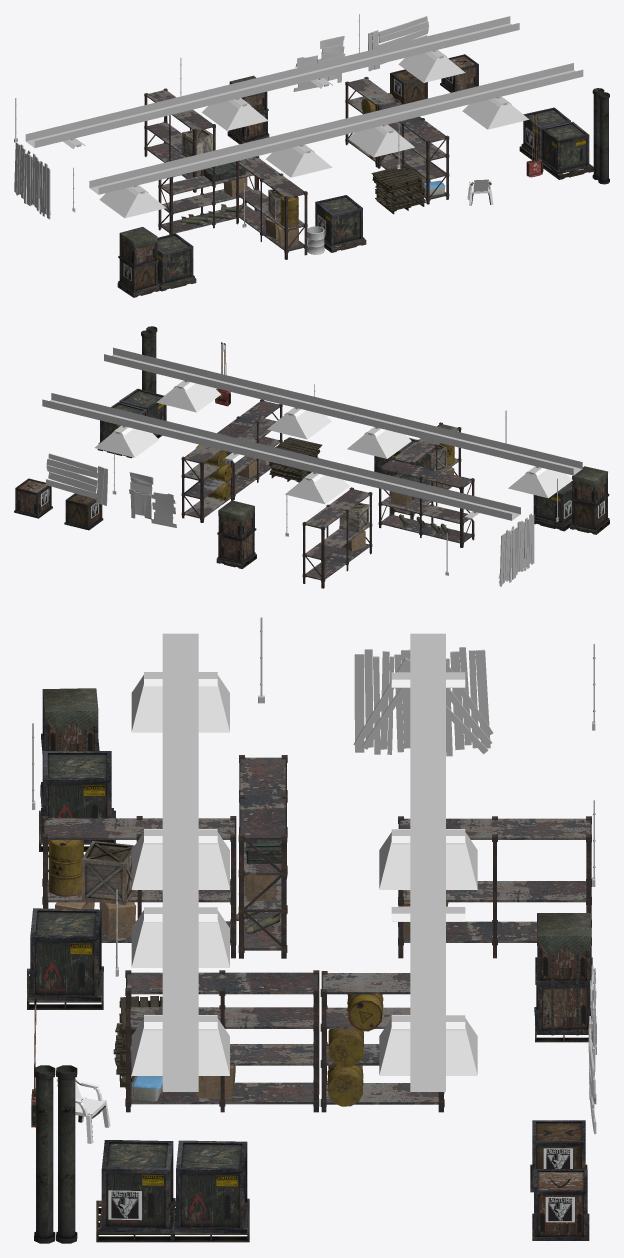
The model's file is Storage Room_A2.fbx.
The picture shows the model from 3 angles, top to bottom: view 1: azimuth 30°, elevation 25°; view 2: azimuth 150°, elevation 25°; view 3: azimuth 270°, elevation 25°; orthographic projection. The views are drawn at different scales.
Parts seen in each view (by area): view 1: StorageCeilingMetal (×2), Storage_Fog (×6), SentryCrate (×4), StorageBase_L (2) (×4), StorageBase_L (×3), DoorPlankSet_T03, StorageBase_L (1) (×3), ThickMetal_VerticalPipe_02 (×2), StorageBase_L (3) (×2), L_WindowPlankSet_T02, AuraCrate_02 (1), AuraCrate_02 (+12 smaller); view 2: StorageCeilingMetal (×2), Storage_Fog (×6), StorageBase_L (×4), SentryCrate (×3), L_WindowPlankSet_T02, StorageBase_L (1) (×3), StorageBase_L (2) (×3), DoorPlankSet_T03, CrateTop_M (×2), AuraCrate_01 (1) (×2), AuraCrate_01, AuraCrate_02 (+12 smaller); view 3: StorageCeilingMetal (×2), SentryCrate (×4), Storage_Fog (×6), StorageBase_L (×4), DoorPlankSet_T03, ThickMetal_VerticalPipe_02 (×2), StorageBase_L (2) (×3), StorageBase_L (1) (×3), RadioactiveBarrel (×4), CrateTop_M (×2), AuraCrate_01, AuraCrate_01 (1) (×2) (+10 smaller).
Part boxes in pixels (x1,y1,x2,y2): StorageCeilingMetal (×2): (25, 16, 583, 194); Storage_Fog (×6): (99, 53, 528, 218); SentryCrate (×4): (157, 107, 590, 286); StorageBase_L (2) (×4): (146, 122, 445, 230); StorageBase_L (×3): (146, 90, 445, 198); DoorPlankSet_T03: (14, 142, 51, 219); StorageBase_L (1) (×3): (146, 143, 304, 251); ThickMetal_VerticalPipe_02 (×2): (592, 88, 609, 184); StorageBase_L (3) (×2): (160, 122, 446, 194); L_WindowPlankSet_T02: (368, 16, 428, 71); AuraCrate_02 (1): (118, 259, 158, 293); AuraCrate_02: (390, 69, 427, 104); StorageCeilingMetal (×2): (42, 347, 582, 520); Storage_Fog (×6): (94, 383, 572, 504); StorageBase_L (×4): (217, 401, 472, 528); SentryCrate (×3): (98, 388, 571, 526); L_WindowPlankSet_T02: (45, 453, 107, 505); StorageBase_L (1) (×3): (226, 463, 472, 580); StorageBase_L (2) (×3): (226, 436, 468, 559); DoorPlankSet_T03: (498, 513, 534, 586); CrateTop_M (×2): (218, 466, 607, 562); AuraCrate_01 (1) (×2): (217, 472, 609, 540); AuraCrate_01: (14, 478, 52, 518); AuraCrate_02: (64, 493, 103, 530); StorageCeilingMetal (×2): (162, 633, 445, 1091); SentryCrate (×4): (28, 751, 249, 1233); Storage_Fog (×6): (131, 675, 477, 1075); StorageBase_L (×4): (44, 757, 590, 994); DoorPlankSet_T03: (353, 647, 493, 756); ThickMetal_VerticalPipe_02 (×2): (34, 1065, 77, 1243); StorageBase_L (2) (×3): (47, 881, 586, 1065); StorageBase_L (1) (×3): (130, 912, 536, 1104); RadioactiveBarrel (×4): (48, 840, 383, 1106); CrateTop_M (×2): (42, 688, 590, 1035); AuraCrate_01: (532, 1169, 589, 1240); AuraCrate_01 (1) (×2): (41, 688, 592, 984).
Bounding box in the file's own units: 18.11 × 3.19 × 9.52.
